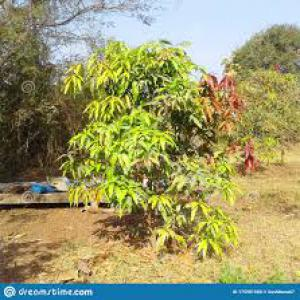Tree: (57, 36, 255, 260)
